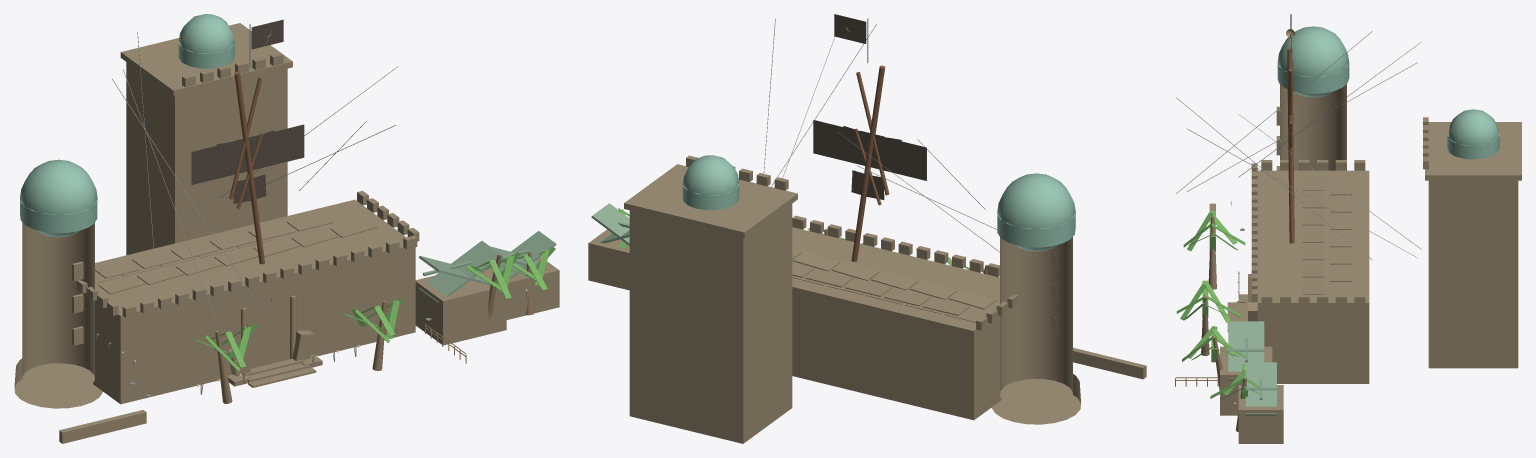
File: 03_caribbean-pirates.glb
3 renders of one model, left to right at view 1: azimuth 30°, elevation 25°; view 2: azimuth 150°, elevation 25°; view 3: azimuth 270°, elevation 25°, orthographic. The views are drawn at different scales.
Parts seen in each view (by area): view 1: stone_building, copper_patina, banner, palm_leaves, roof_tile, metal_lanterns, palm_trunks, mast, weathered_wood, yard1; view 2: stone_building, copper_patina, banner, mast, metal_lanterns, roof_tile; view 3: stone_building, copper_patina, roof_tile, palm_leaves, metal_lanterns, palm_trunks, mast.
Boxes of the visible parts, bbox=[...] form: stone_building: bbox=[14, 23, 559, 443]; copper_patina: bbox=[20, 14, 234, 237]; banner: bbox=[191, 19, 304, 203]; palm_leaves: bbox=[194, 247, 555, 371]; roof_tile: bbox=[419, 231, 556, 302]; metal_lanterns: bbox=[96, 24, 526, 396]; palm_trunks: bbox=[215, 252, 533, 403]; mast: bbox=[234, 71, 264, 264]; weathered_wood: bbox=[241, 295, 466, 363]; yard1: bbox=[229, 77, 262, 199]; stone_building: bbox=[588, 26, 1146, 443]; copper_patina: bbox=[682, 155, 1075, 251]; banner: bbox=[813, 14, 926, 199]; mast: bbox=[851, 65, 885, 261]; metal_lanterns: bbox=[763, 18, 999, 252]; roof_tile: bbox=[591, 203, 629, 245]; stone_building: bbox=[1209, 29, 1521, 443]; copper_patina: bbox=[1277, 26, 1499, 159]; roof_tile: bbox=[1228, 321, 1276, 415]; palm_leaves: bbox=[1176, 210, 1277, 399]; metal_lanterns: bbox=[1176, 14, 1421, 412]; palm_trunks: bbox=[1201, 216, 1246, 431]; mast: bbox=[1287, 48, 1294, 243].
Size of the model in its own units: 73.75 by 45.15 by 46.57.
